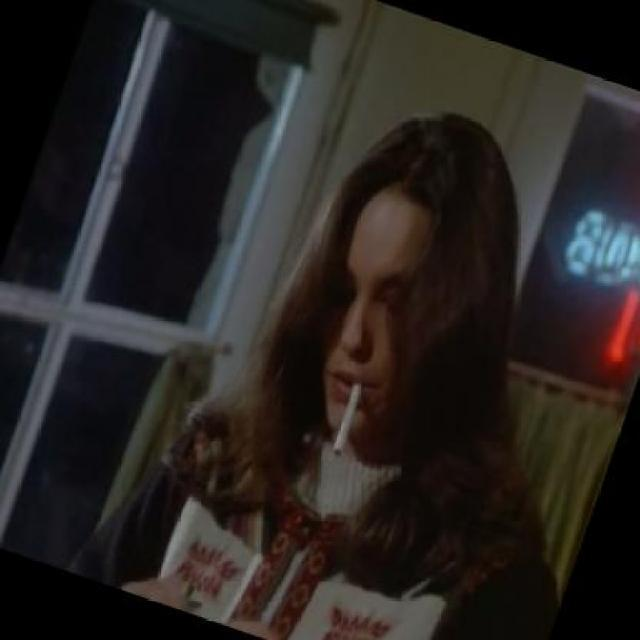smoke: (324, 375, 370, 460)
